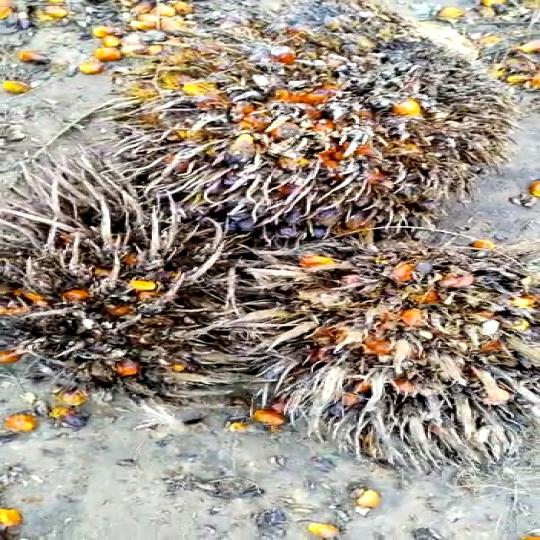terlalu masak: (203, 230, 540, 462), (121, 31, 488, 235)
